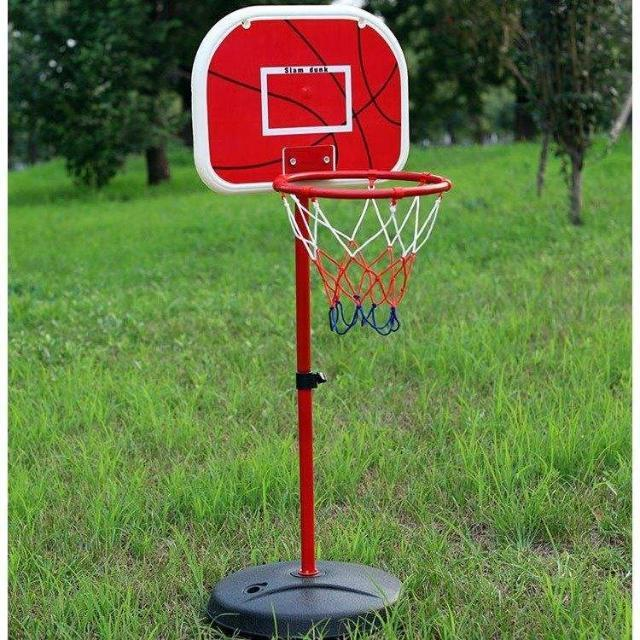rim: (275, 171, 451, 335)
